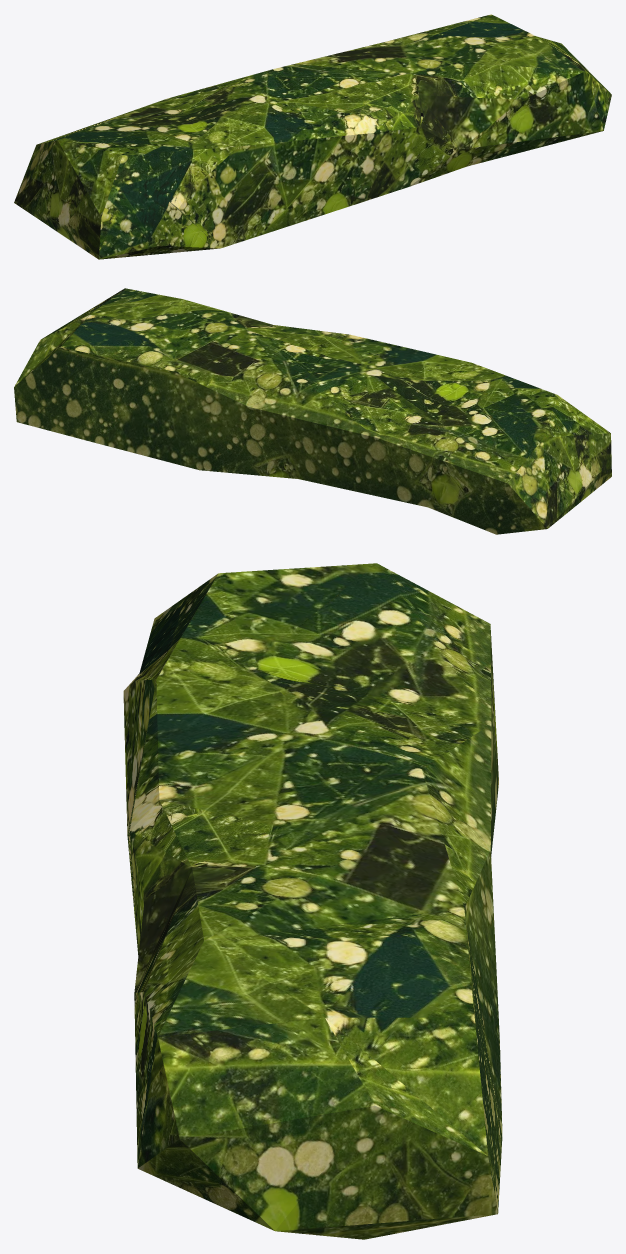
File: power-bar.glb
The picture shows the model from 3 angles, top to bottom: view 1: azimuth 30°, elevation 25°; view 2: azimuth 150°, elevation 25°; view 3: azimuth 270°, elevation 25°; orthographic projection. The views are drawn at different scales.
Parts seen in each view (by area): view 1: output_unwrapped; view 2: output_unwrapped; view 3: output_unwrapped.
Boxes of the visible parts, <box> form: output_unwrapped: <box>14,14,611,259</box>; output_unwrapped: <box>14,288,611,534</box>; output_unwrapped: <box>123,563,502,1239</box>.
Size of the model in its own units: 1.88 by 0.355 by 0.5754.
1 material, 1 textured.
